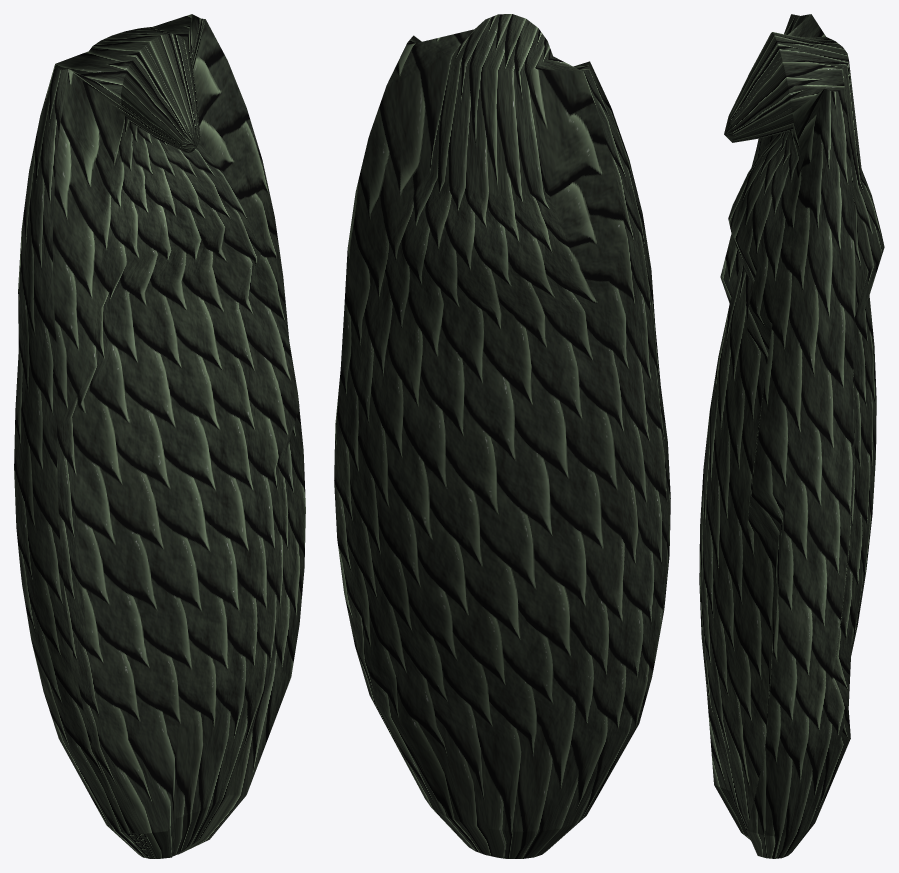
Rendered from efigie 1.fbx.
3 views of the same model, side by side, from view 1: azimuth 30°, elevation 25°; view 2: azimuth 150°, elevation 25°; view 3: azimuth 270°, elevation 25° (orthographic). The views are drawn at different scales.
Parts seen in each view (by area): view 1: pasted__pSphere3; view 2: pasted__pSphere3; view 3: pasted__pSphere3.
Boxes of the visible parts, x1,y1,x2,y2 form: pasted__pSphere3: (14, 14, 305, 858); pasted__pSphere3: (334, 14, 670, 858); pasted__pSphere3: (699, 14, 884, 858).
Size of the model in its own units: 57.99 by 158 by 32.61.
1 material, 1 textured.
